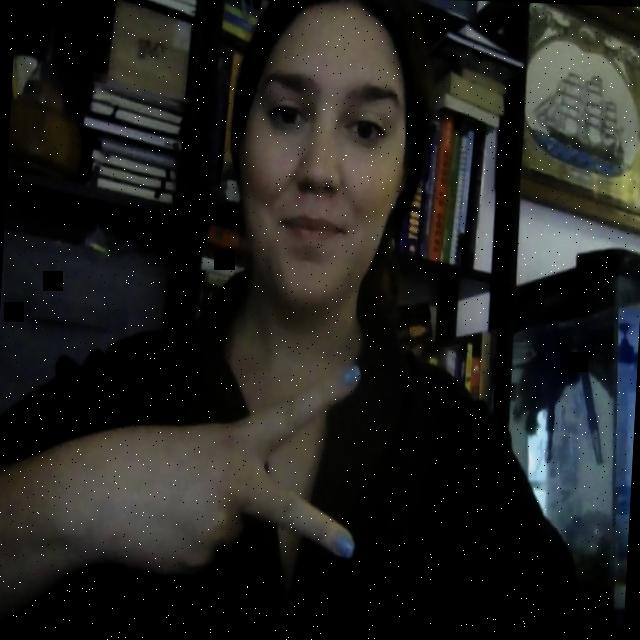Scissors: (27, 338, 372, 593)
